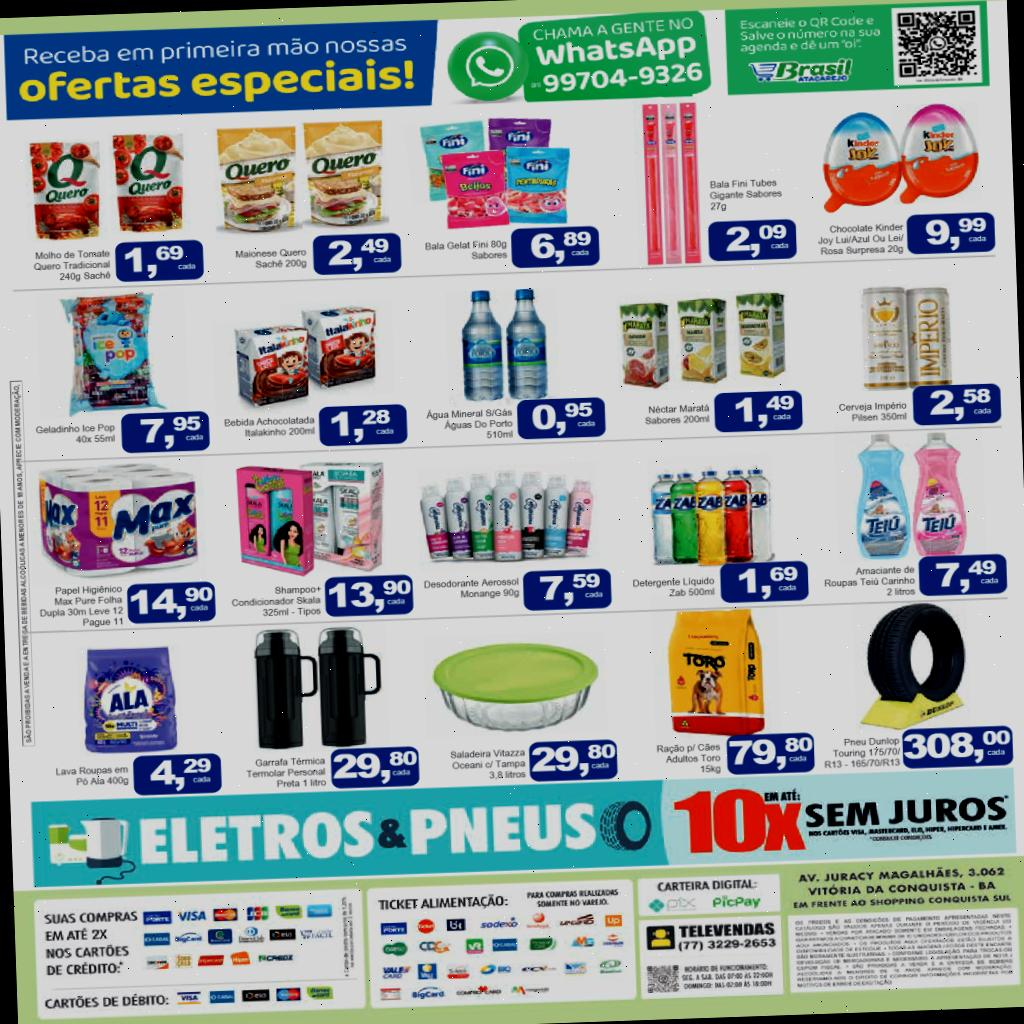price: (902, 728, 1012, 766), (325, 576, 412, 616), (528, 742, 617, 780), (726, 735, 814, 773), (127, 584, 215, 622), (332, 749, 418, 786), (121, 242, 198, 280), (535, 570, 605, 610), (144, 756, 217, 793), (134, 413, 206, 450), (530, 400, 600, 438), (926, 386, 996, 424), (734, 564, 804, 602), (930, 557, 1000, 594), (328, 406, 396, 444), (722, 221, 790, 259), (324, 236, 394, 272), (528, 228, 594, 266), (922, 215, 989, 252), (731, 394, 798, 430)
product_text: (36, 581, 126, 630), (820, 562, 917, 600), (425, 404, 514, 444), (229, 582, 322, 620), (30, 246, 114, 286), (820, 732, 902, 772), (707, 174, 787, 214), (816, 220, 904, 256), (244, 753, 328, 790), (447, 746, 527, 784), (653, 737, 723, 778), (422, 573, 520, 602), (422, 234, 508, 264), (222, 413, 317, 440), (34, 420, 116, 450), (627, 574, 717, 600), (52, 762, 130, 790), (834, 398, 910, 426), (233, 244, 307, 272), (640, 402, 710, 428)
